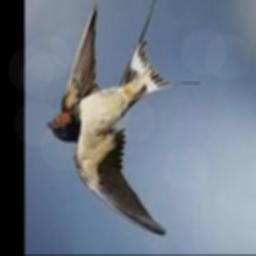Swallow: (47, 0, 199, 237)
